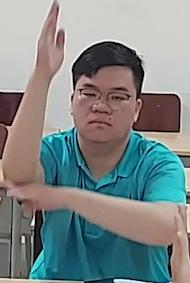Raising_Hand: (0, 0, 188, 254)
